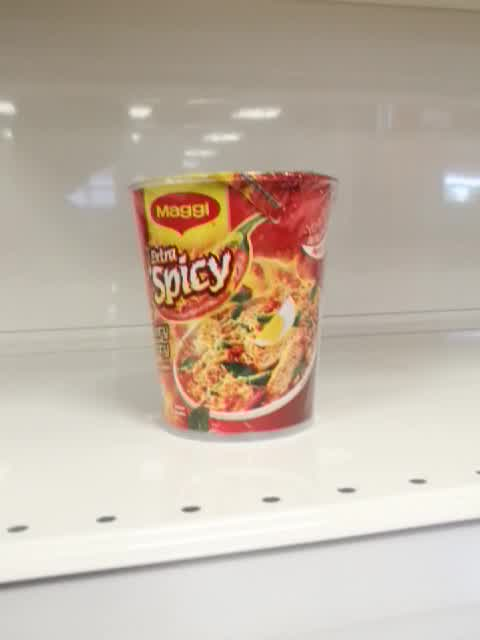maggi: (128, 169, 338, 445)
